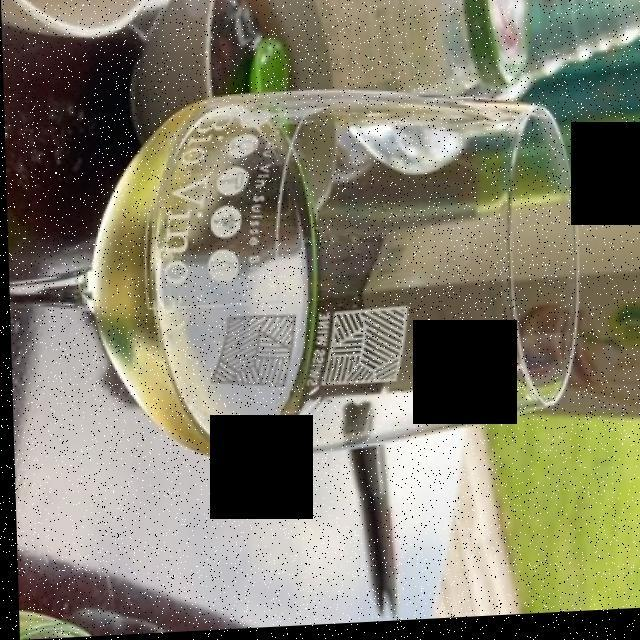wine: (86, 109, 323, 439)
